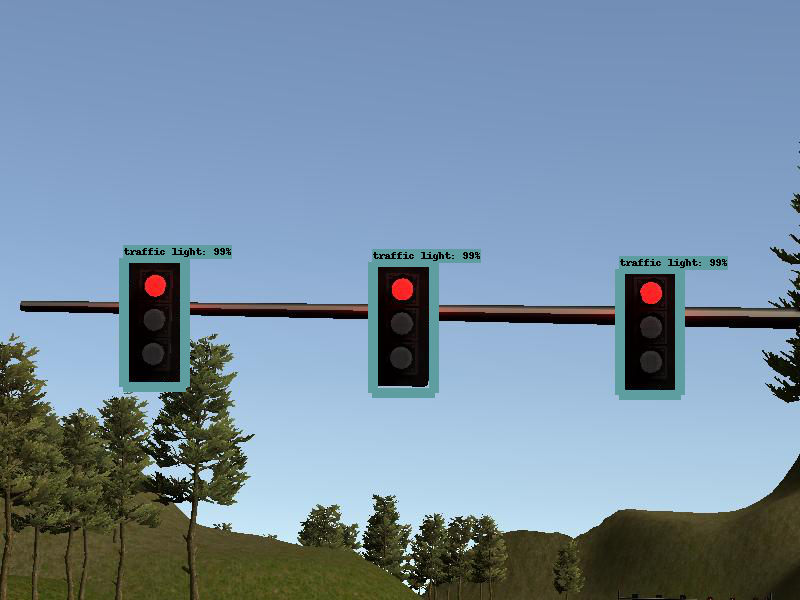red: (605, 214, 677, 360), (320, 209, 391, 356), (36, 208, 103, 351)
